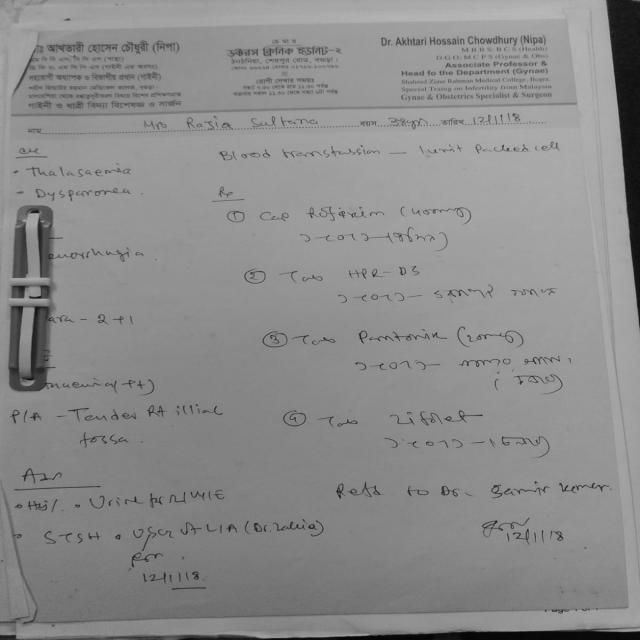medicine: (349, 323, 451, 349), (386, 407, 478, 432), (299, 203, 394, 224), (343, 262, 428, 278)
